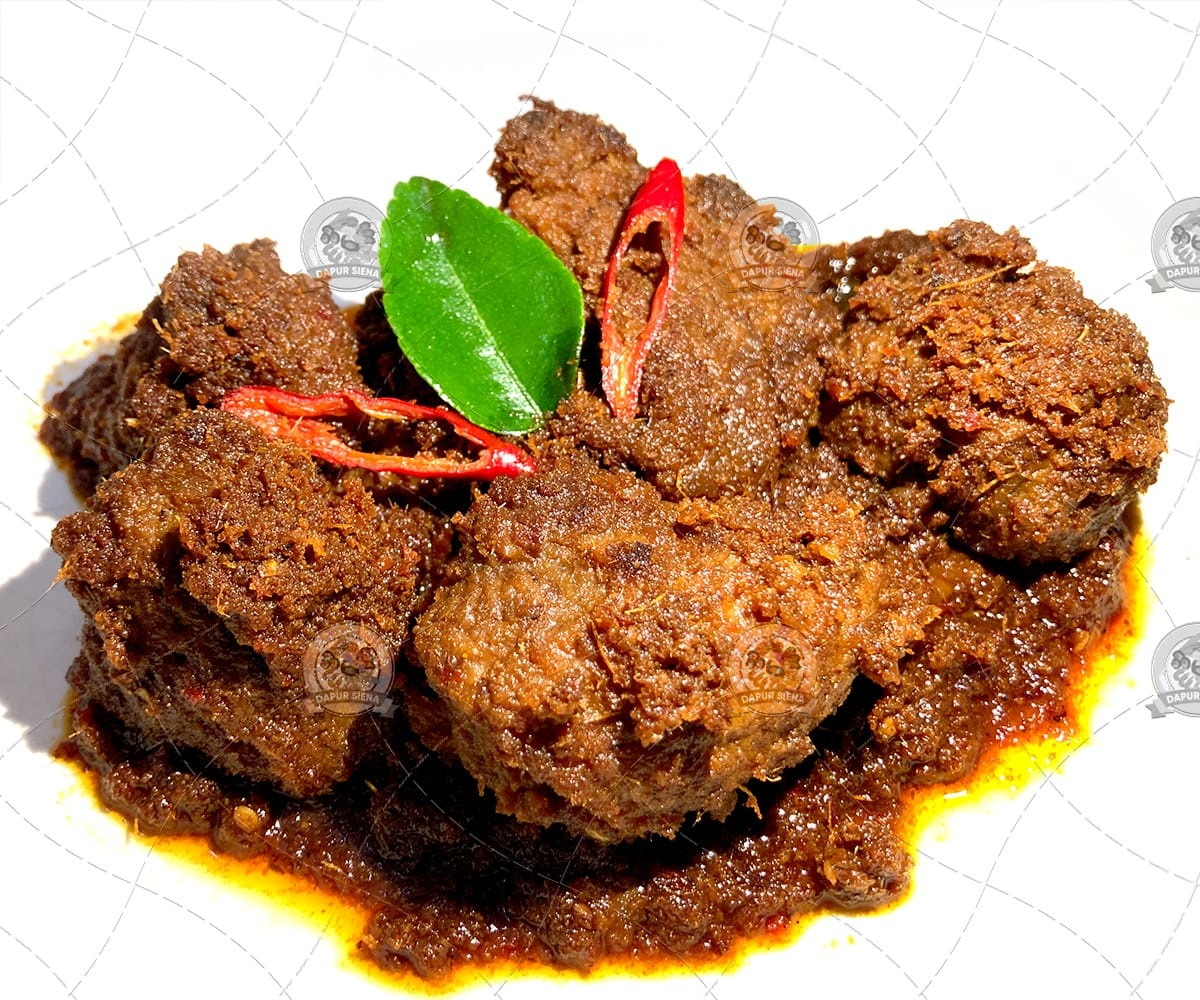rendang: (29, 105, 1160, 864)
